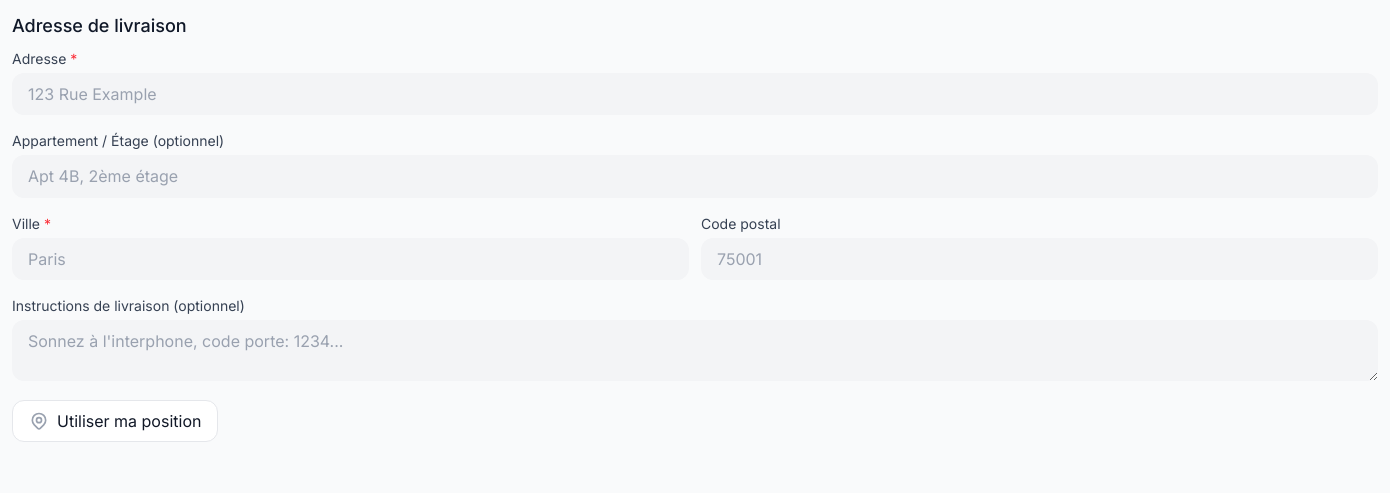
Test case: DeliveryAddressForm › geolocation › shows permission denied error
What coordinates should you click on to do the following:
click the button "Utiliser ma position"
I would click on:
 (115, 421)
Its box is [12,400,218,442].
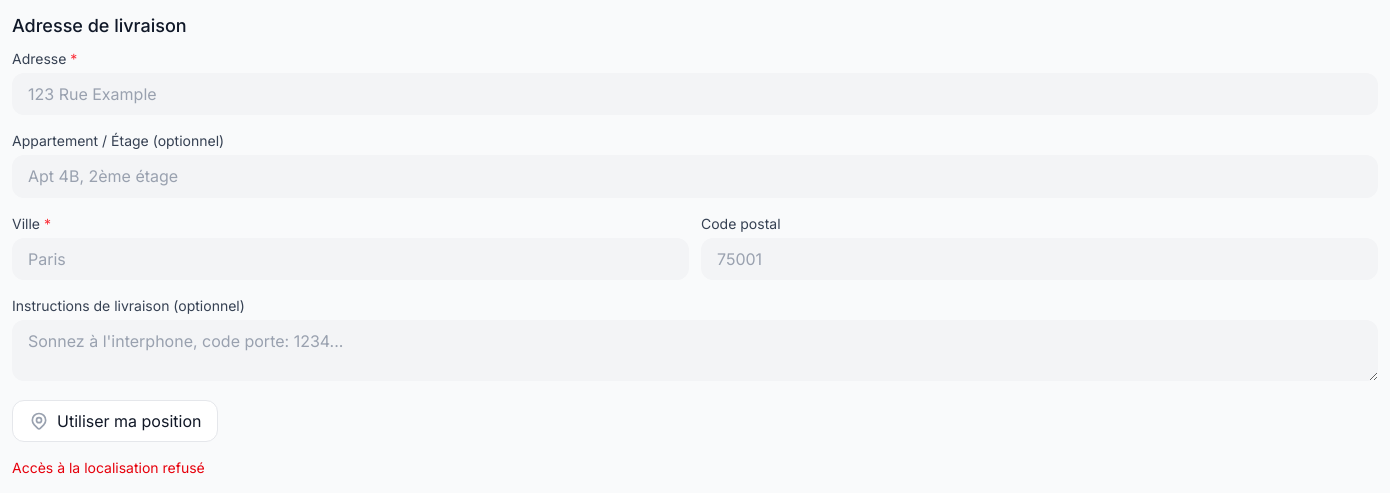
Expected: the text "Accès à la localisation refusé" is shown, [12,459,205,476]
